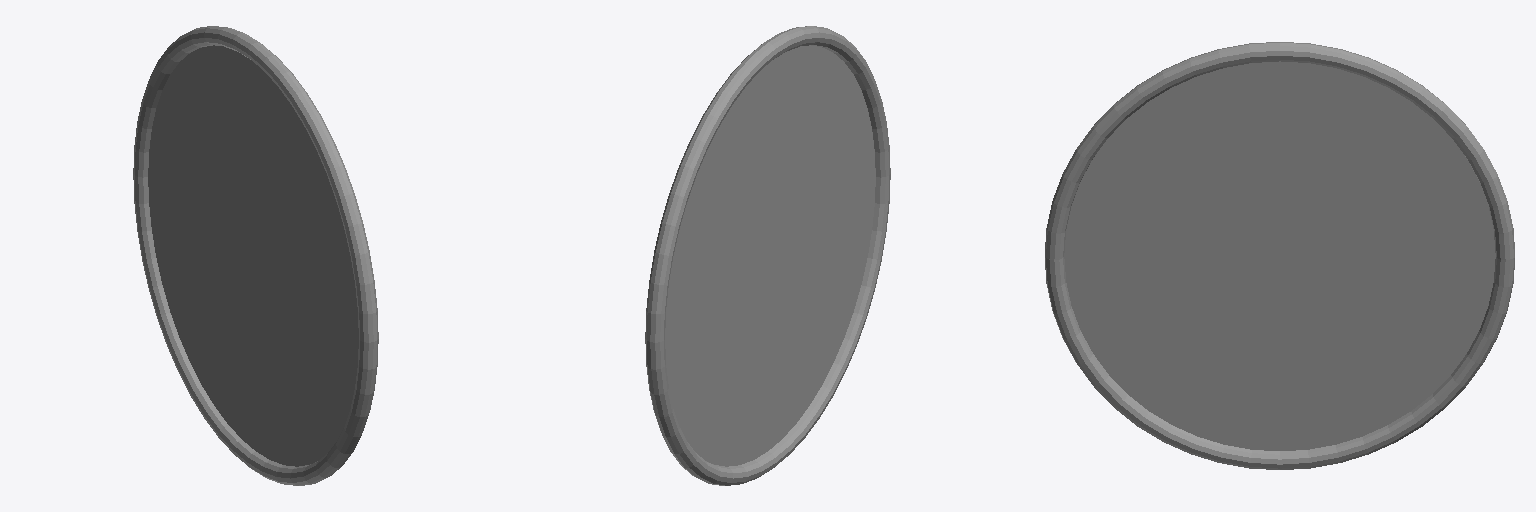
File: clock.obj
3 renders of one model, left to right at view 1: azimuth 30°, elevation 25°; view 2: azimuth 150°, elevation 25°; view 3: azimuth 270°, elevation 25°, orthographic.
Visible parts, largest first — view 1: ring_Torus; view 2: ring_Torus; view 3: ring_Torus.
Boxes of the visible parts, x1,y1,x2,y2 form: ring_Torus: [133, 26, 378, 485]; ring_Torus: [645, 26, 890, 485]; ring_Torus: [1045, 42, 1514, 469].
Bounding box in the file's own units: 0.08 × 1.9 × 1.9.